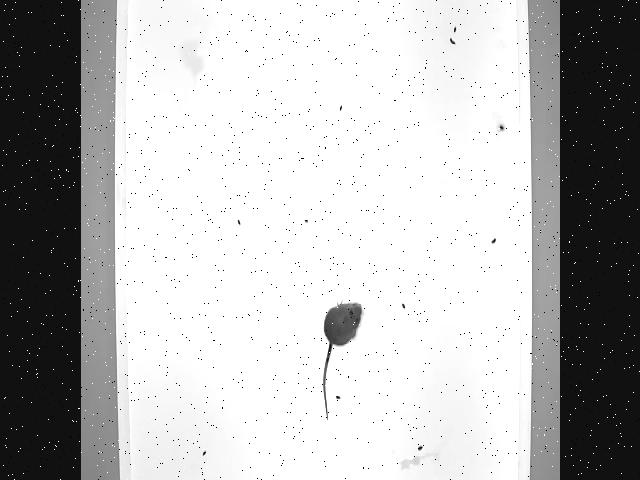Tikus: (320, 300, 366, 422)
